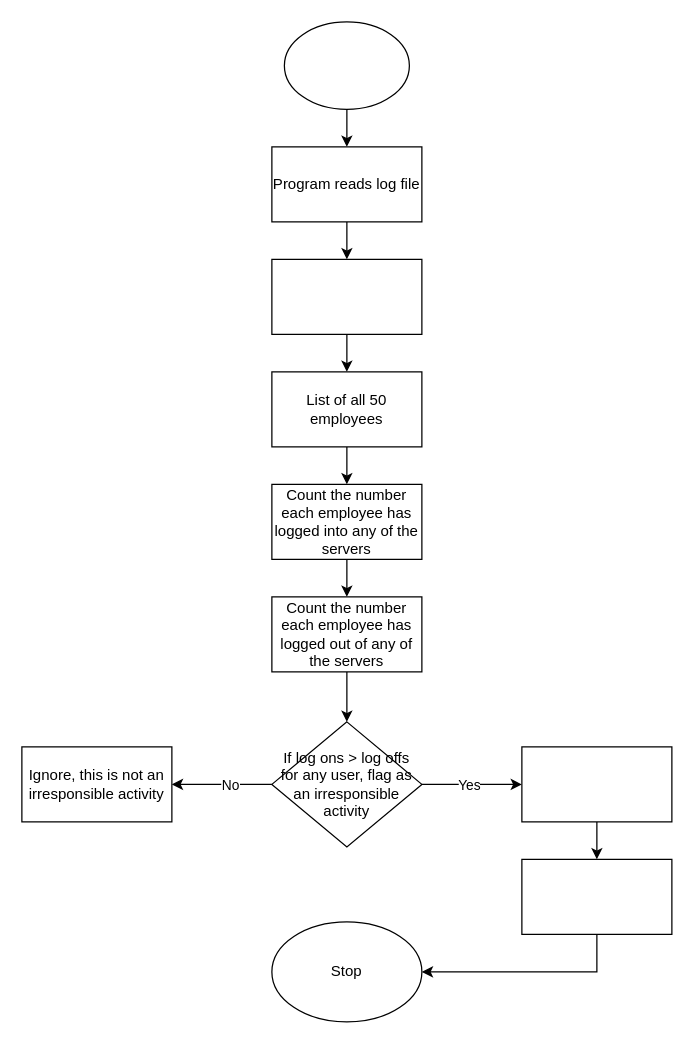
Some shapes in this 694 by 1044 pixel diagram are drawn without their labels. The centre of each missing label's shape, as x and y in pixels:
"Define function def irresponsible():" goes at point (346, 296).
"Return total number of irresponsible activities per employee" goes at point (596, 896).
"Start" goes at point (346, 65).
"Whenever the statement is true, each irresponsible activity = 1" goes at point (596, 784).
